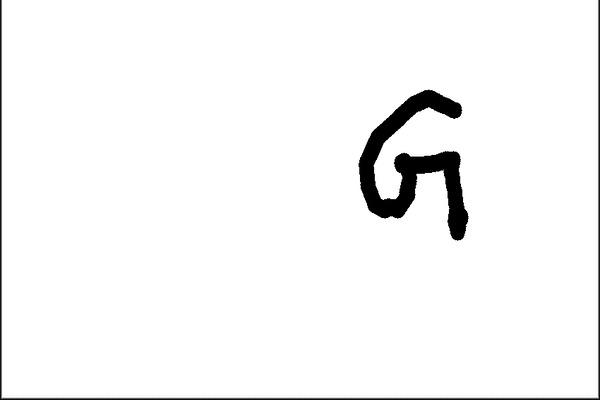G: (354, 86, 475, 247)
